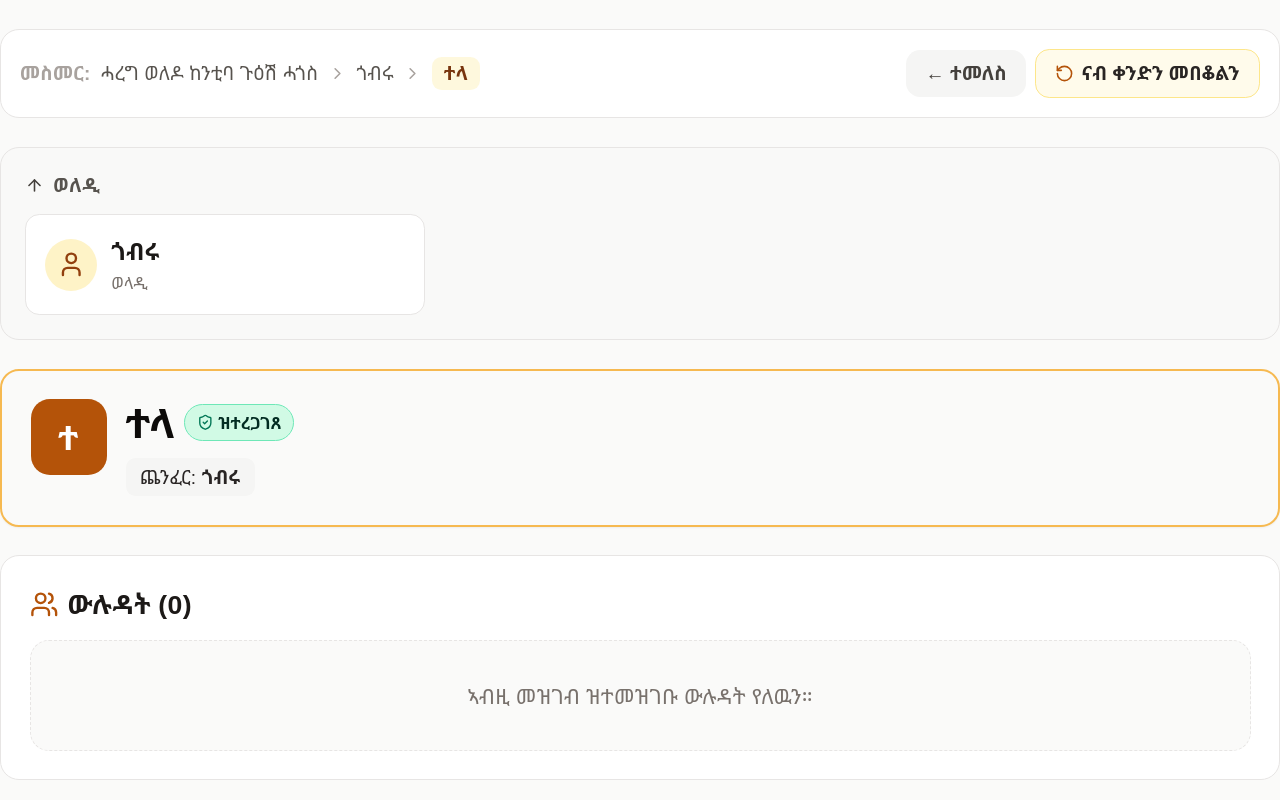
Test: UI Navigation, Tree Interaction, and Safety Verification › 27. FamilyExplorer: Back button (← ተመለስ) correctly steps back to parent when focused directly, and to previous trail person when navigated
// Click back button: should step back to parent 'ጎብሩ'
Click the button "← ተመለስ". click: (966, 73)
box: [906,50,1026,97]
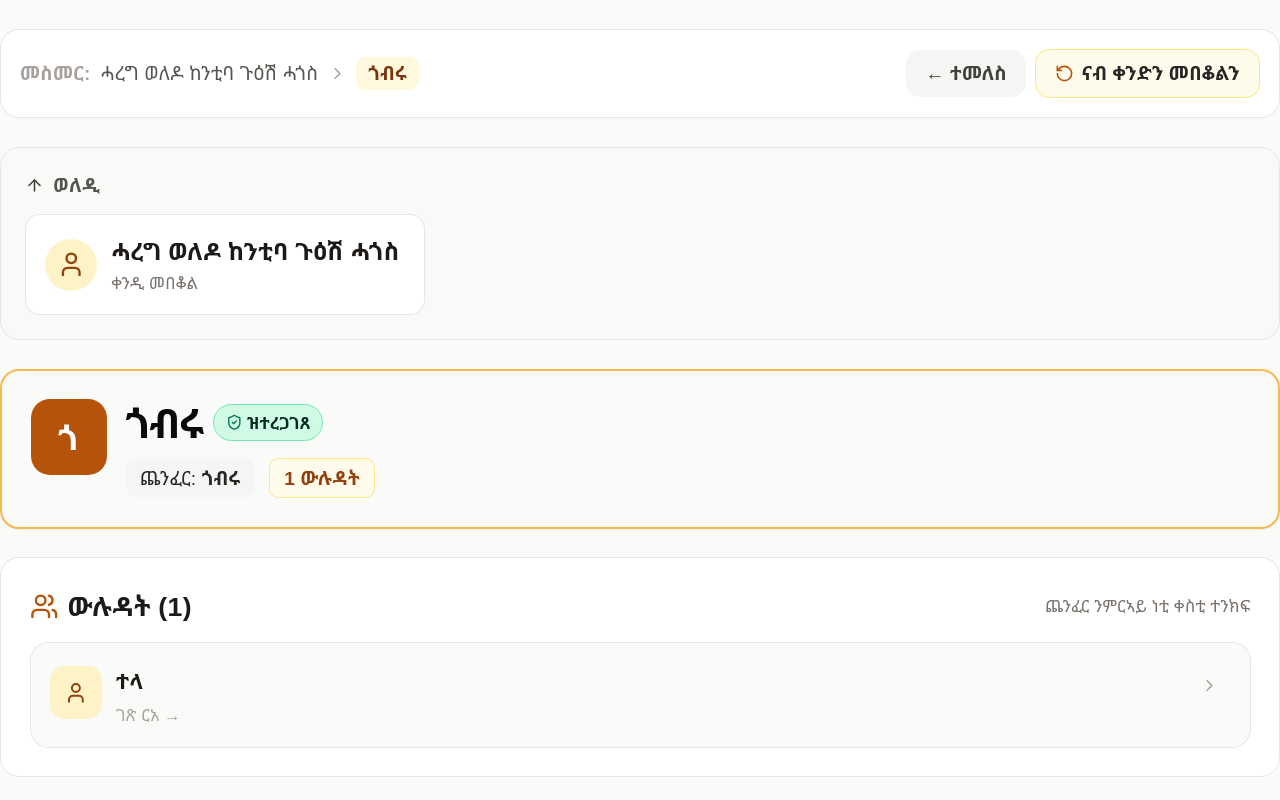
Check: the text "ጎብሩ" in the row of "መስመር:" is shown, box [368,60,407,86]
